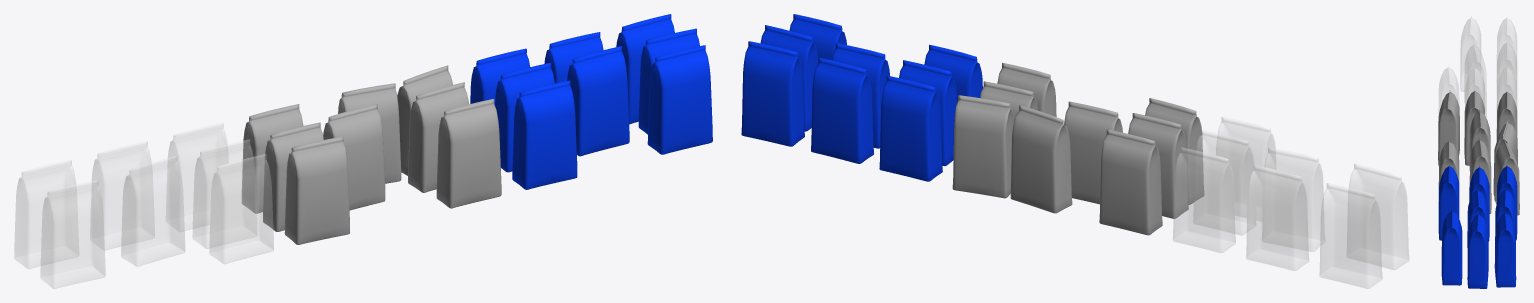
File: Coffee_5uj6zk_Pack01.fbx
3 renders of one model, left to right at view 1: azimuth 30°, elevation 25°; view 2: azimuth 150°, elevation 25°; view 3: azimuth 270°, elevation 25°, orthographic. The views are drawn at different scales.
Parts seen in each view (by area): view 1: Coffee_5uj6zk_Pack01; view 2: Coffee_5uj6zk_Pack01; view 3: Coffee_5uj6zk_Pack01.
Boxes of the visible parts, box(x1,y1,x2,y2) form: Coffee_5uj6zk_Pack01: box(14, 14, 712, 288); Coffee_5uj6zk_Pack01: box(741, 14, 1409, 288); Coffee_5uj6zk_Pack01: box(1438, 16, 1519, 288).
Bounding box in the file's own units: 181 × 24.45 × 29.15.
